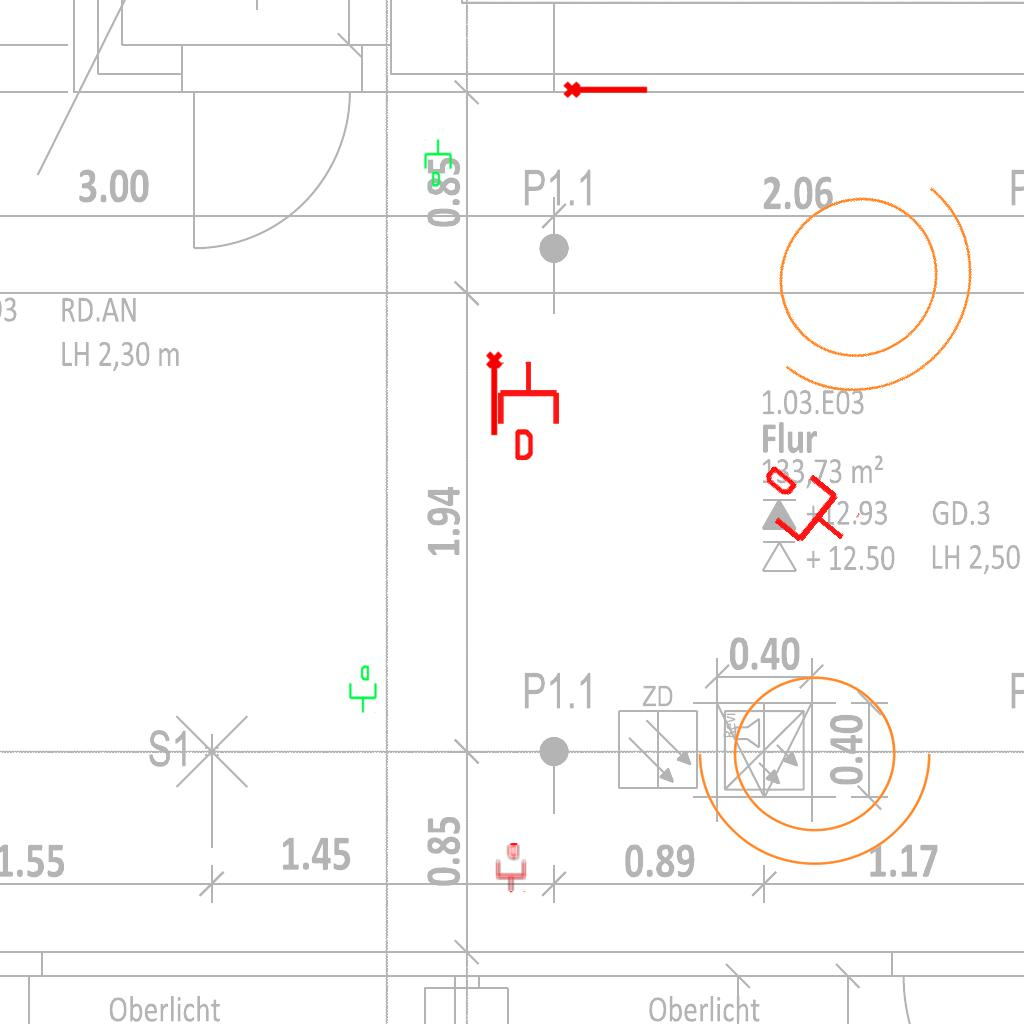ASR_Ansaugoeffnung: (484, 350, 507, 438), (562, 77, 650, 100)
Datenanschluss_einfach: (743, 448, 866, 566), (494, 360, 563, 460), (422, 138, 456, 188), (494, 843, 528, 893), (345, 664, 379, 714)
Scheinwerfer_fuer_Alarmbeleuchtung: (699, 105, 1024, 452), (689, 651, 953, 876)
